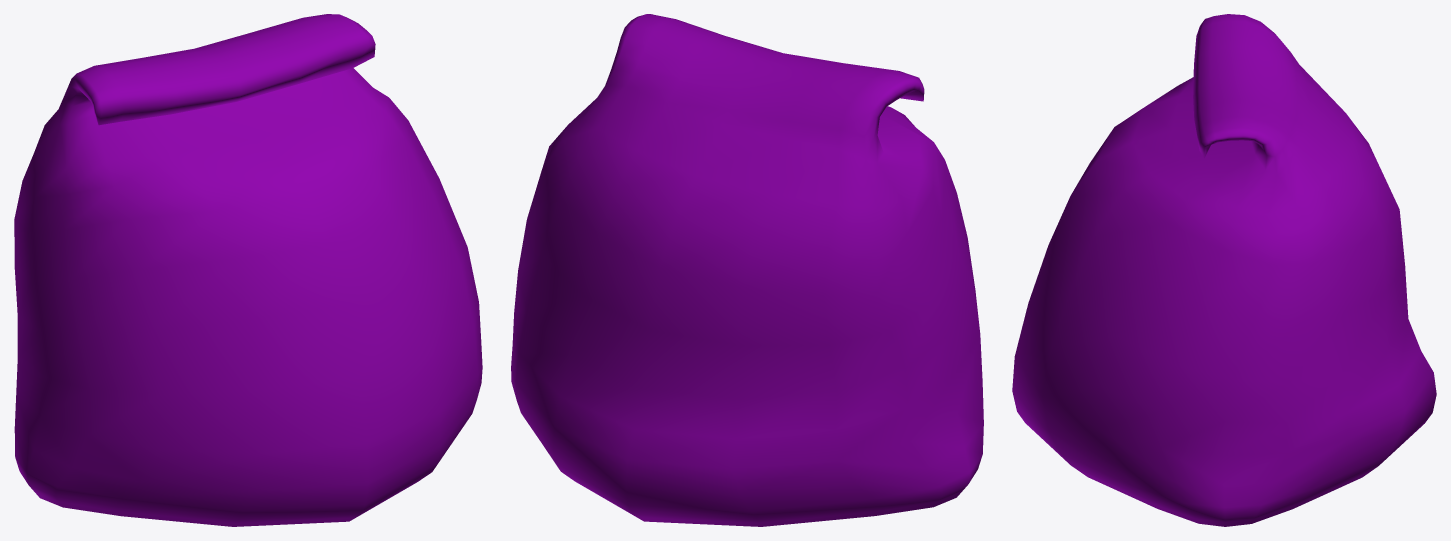
The model's file is SM_Bags_06.fbx.
The picture shows the model from 3 angles, left to right: view 1: azimuth 30°, elevation 25°; view 2: azimuth 150°, elevation 25°; view 3: azimuth 270°, elevation 25°; orthographic projection. The views are drawn at different scales.
Parts seen in each view (by area): view 1: Bags_06; view 2: Bags_06; view 3: Bags_06.
Part boxes in pixels (x1,y1,x2,y2): Bags_06: (14, 14, 482, 526); Bags_06: (511, 14, 983, 526); Bags_06: (1012, 14, 1436, 526).
Bounding box in the file's own units: 95.75 × 83.83 × 90.03.
